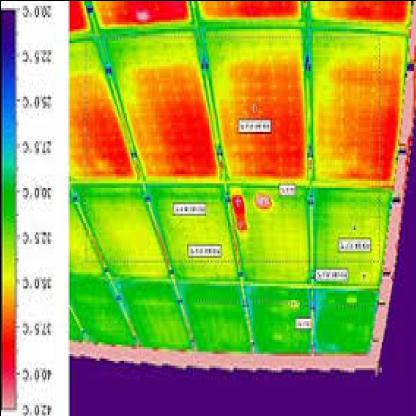Defects: (162, 105, 214, 175), (260, 133, 300, 173), (232, 192, 246, 234), (254, 190, 272, 208)
